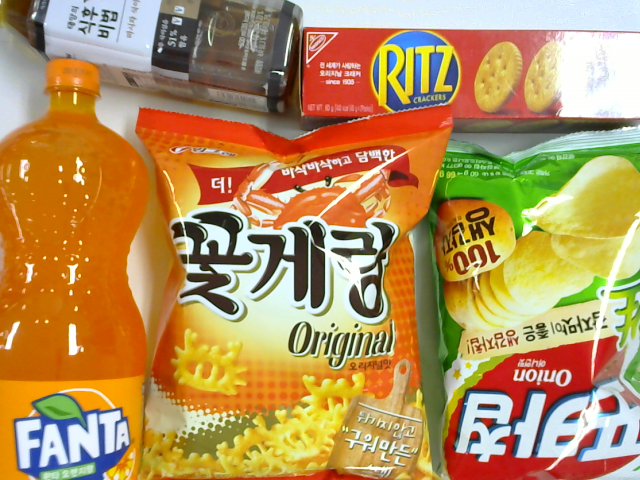Crabrang: (135, 102, 454, 480)
Hwanta_Orange_1.5L: (1, 58, 148, 479)
Pocachip_Onion: (415, 126, 640, 469)
Post-meal_recipe_W_tea_500ml: (1, 1, 302, 116)
Ritz_Cracker: (301, 30, 640, 128)
